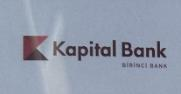Kapital Bank: (21, 33, 50, 61)
